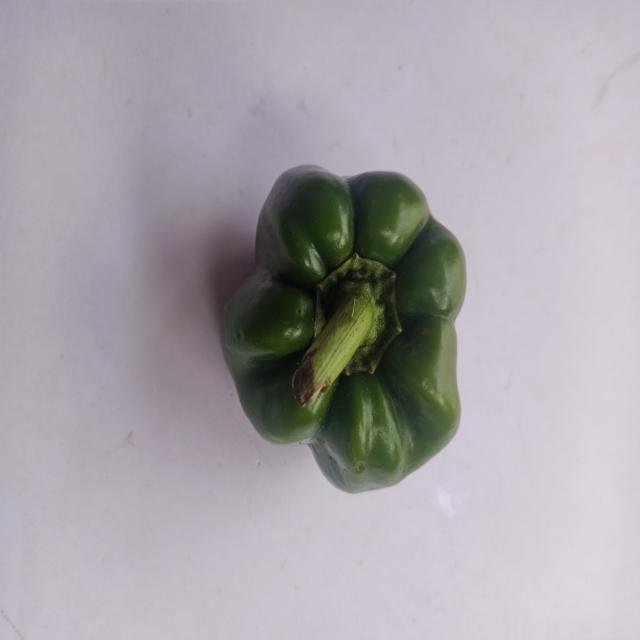Capsicum: (217, 152, 479, 510)
